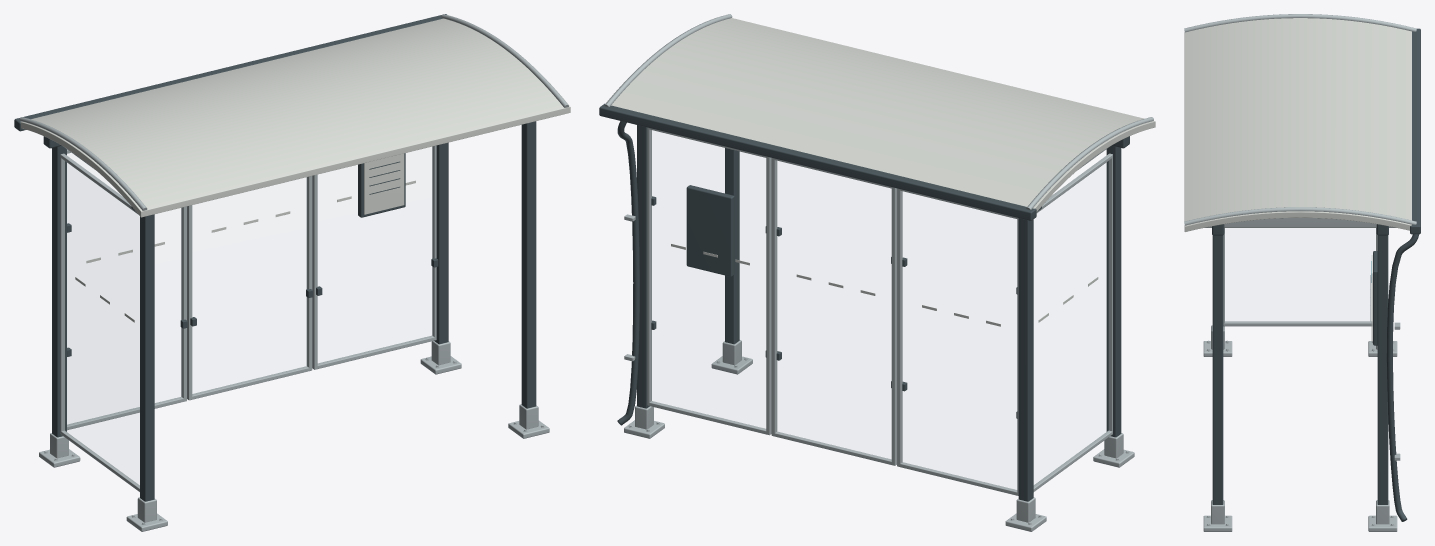
File: city-bus-shelter.glb
3 views of the same model, side by side, from view 1: azimuth 30°, elevation 25°; view 2: azimuth 150°, elevation 25°; view 3: azimuth 270°, elevation 25° (orthographic). The views are drawn at different scales.
Visible parts, largest first — view 1: Curved shelter roof, Structural square post.002, Structural square post, Structural square post.001, Structural square post.003, Blank timetable sheet, Rear rain gutter, End glazing upright.001, Rear glazing frame upright.003, Rear glazing frame upright.002, Rear glazing frame upright.004, Rear glazing frame upright.001 (+6 smaller); view 2: Curved shelter roof, Rear rain gutter, Structural square post.001, Timetable rear housing, Structural square post, Structural square post.003, Rear rain downpipe, Structural square post.002, Rear glazing frame upright.003, Rear glazing frame upright.004, Rear glazing frame upright.002, Rear glazing frame upright.001 (+7 smaller); view 3: Curved shelter roof, Structural square post.002, Structural square post.003, Rear rain downpipe, Rear rain gutter, Roof crossmember.002, Roof folded edge.001, Roof folded edge, End glazing rail, Timetable rear housing, Anchored shelter footplate.003, Anchored shelter footplate.002 (+2 smaller).
Part boxes in pixels (x1=…): Curved shelter roof: x1=20, y1=18, x2=570, y2=217; Structural square post.002: x1=521, y1=121, x2=536, y2=408; Structural square post: x1=140, y1=214, x2=154, y2=501; Structural square post.001: x1=52, y1=145, x2=66, y2=437; Structural square post.003: x1=434, y1=142, x2=448, y2=344; Blank timetable sheet: x1=364, y1=153, x2=404, y2=214; Rear rain gutter: x1=14, y1=14, x2=446, y2=131; End glazing upright.001: x1=60, y1=156, x2=64, y2=432; Rear glazing frame upright.003: x1=306, y1=176, x2=312, y2=370; Rear glazing frame upright.002: x1=187, y1=205, x2=192, y2=400; Rear glazing frame upright.004: x1=312, y1=174, x2=317, y2=369; Rear glazing frame upright.001: x1=181, y1=206, x2=186, y2=401; Curved shelter roof: x1=605, y1=18, x2=1155, y2=211; Rear rain gutter: x1=599, y1=103, x2=1036, y2=220; Structural square post.001: x1=1018, y1=218, x2=1033, y2=501; Timetable rear housing: x1=686, y1=185, x2=734, y2=276; Structural square post: x1=1106, y1=145, x2=1121, y2=437; Structural square post.003: x1=637, y1=125, x2=649, y2=408; Rear rain downpipe: x1=617, y1=121, x2=639, y2=425; Structural square post.002: x1=725, y1=148, x2=739, y2=344; Rear glazing frame upright.003: x1=771, y1=158, x2=777, y2=436; Rear glazing frame upright.004: x1=766, y1=157, x2=771, y2=435; Rear glazing frame upright.002: x1=891, y1=187, x2=896, y2=465; Rear glazing frame upright.001: x1=897, y1=188, x2=902, y2=466; Curved shelter roof: x1=1184, y1=18, x2=1411, y2=231; Structural square post.002: x1=1212, y1=235, x2=1223, y2=504; Structural square post.003: x1=1377, y1=235, x2=1388, y2=504; Rear rain downpipe: x1=1386, y1=234, x2=1418, y2=521; Rear rain gutter: x1=1410, y1=28, x2=1420, y2=234; Roof crossmember.002: x1=1204, y1=218, x2=1396, y2=227; Roof folded edge.001: x1=1184, y1=207, x2=1416, y2=225; Roof folded edge: x1=1184, y1=14, x2=1416, y2=32; End glazing rail: x1=1223, y1=321, x2=1372, y2=326; Timetable rear housing: x1=1373, y1=251, x2=1377, y2=345; Anchored shelter footplate.003: x1=1368, y1=515, x2=1397, y2=531; Anchored shelter footplate.002: x1=1203, y1=515, x2=1232, y2=531.
Bounding box in the file's own units: 3.24 × 2.5 × 1.64.
